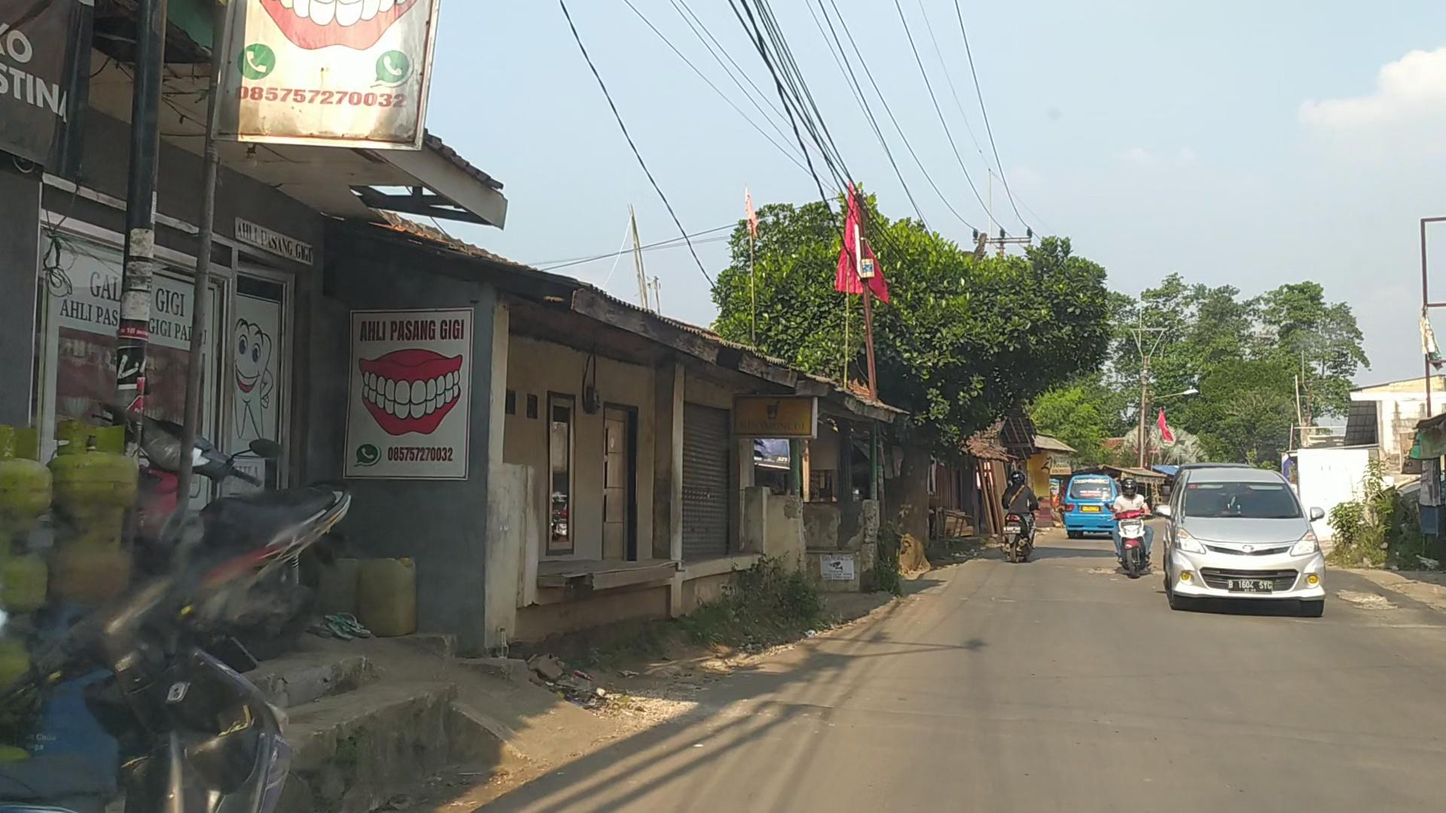pothole: (1335, 586, 1400, 610)
